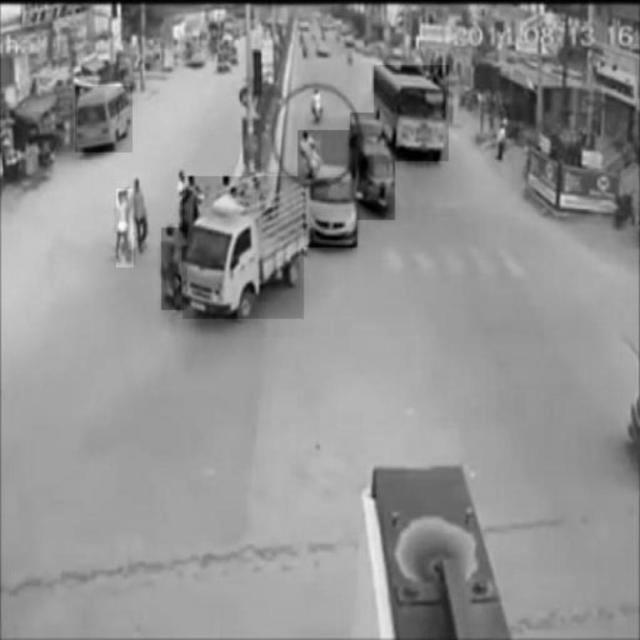accident: (298, 130, 358, 248)
person: (161, 228, 187, 311), (118, 190, 135, 268)
vehicle: (183, 177, 304, 319), (374, 65, 448, 161), (350, 113, 395, 221), (76, 87, 133, 153)
